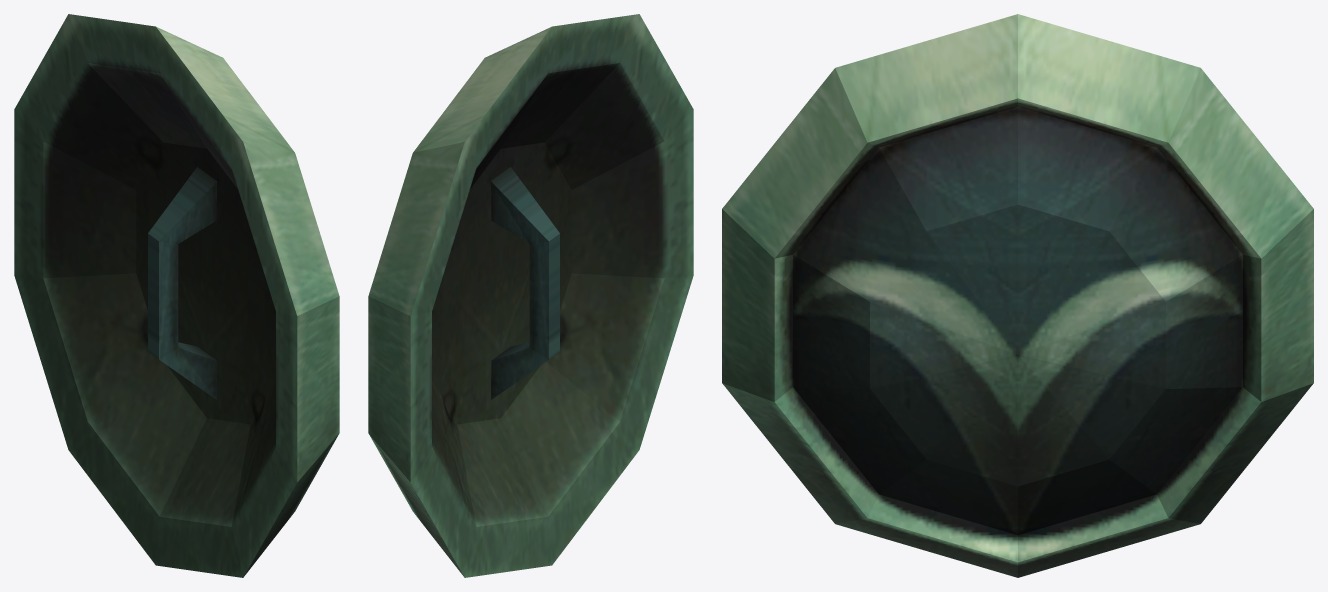
File: Whale_standardWeapon_shield.obj
3 renders of one model, left to right at view 1: azimuth 30°, elevation 25°; view 2: azimuth 150°, elevation 25°; view 3: azimuth 270°, elevation 25°, orthographic. The views are drawn at different scales.
Parts seen in each view (by area): view 1: Whale_standardWeapon_tri [shield]; view 2: Whale_standardWeapon_tri [shield]; view 3: Whale_standardWeapon_tri [shield].
Part boxes in pixels (x1=…): Whale_standardWeapon_tri [shield]: x1=14, y1=14, x2=339, y2=577; Whale_standardWeapon_tri [shield]: x1=368, y1=14, x2=693, y2=577; Whale_standardWeapon_tri [shield]: x1=722, y1=14, x2=1313, y2=577.
Bounding box in the file's own units: 0.2677 × 1.18 × 1.12.
Materials: 1 (1 with a texture image).
